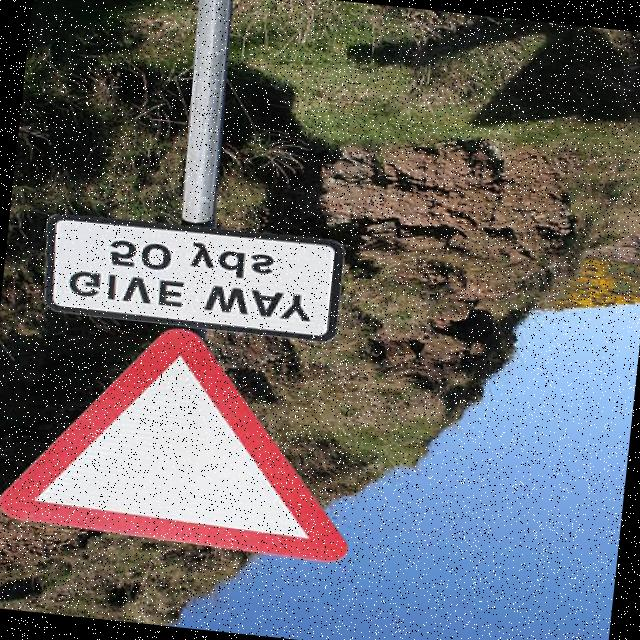give_way: (0, 308, 386, 586)
